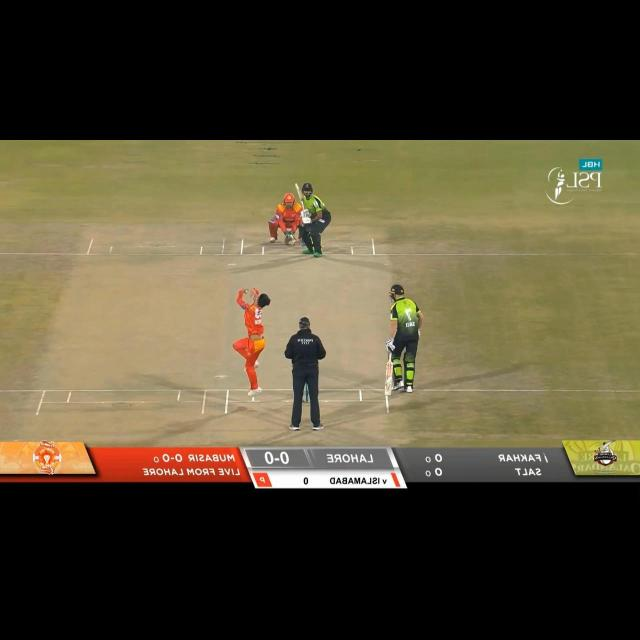bat: (293, 181, 306, 210), (383, 363, 393, 398)
toe: (383, 390, 394, 398), (294, 181, 301, 192)
